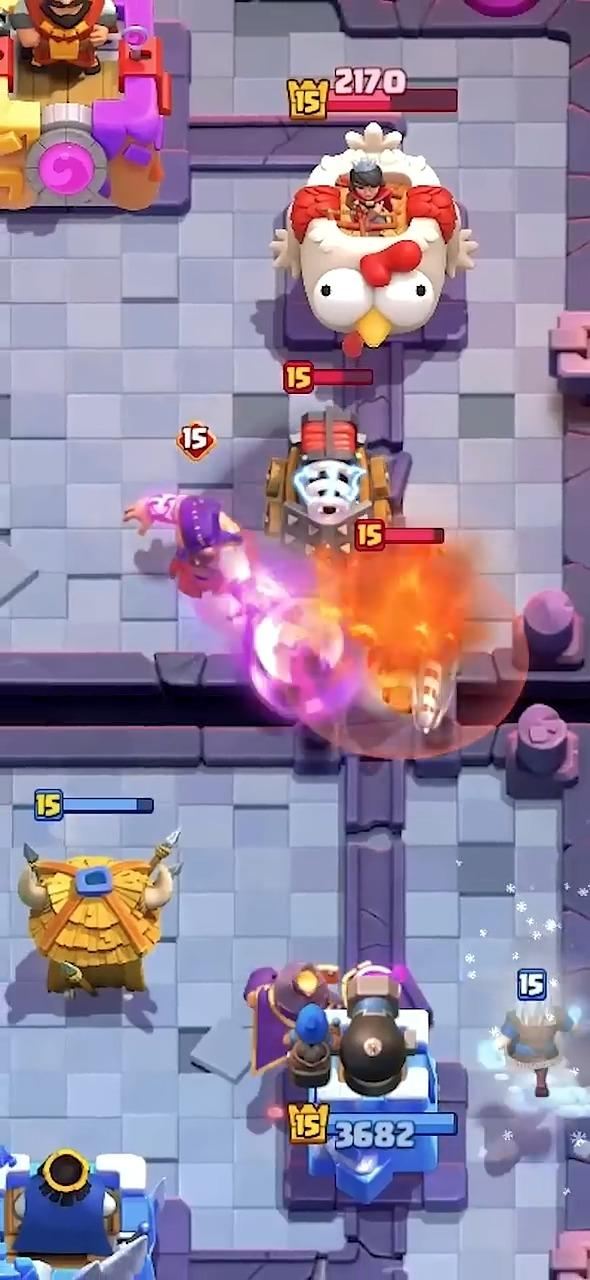executioner: (124, 494, 251, 599)
goblin hut: (17, 831, 179, 996)
ice wizard: (496, 1000, 574, 1098)
prince: (381, 658, 455, 735)
sparky: (265, 410, 392, 553)
